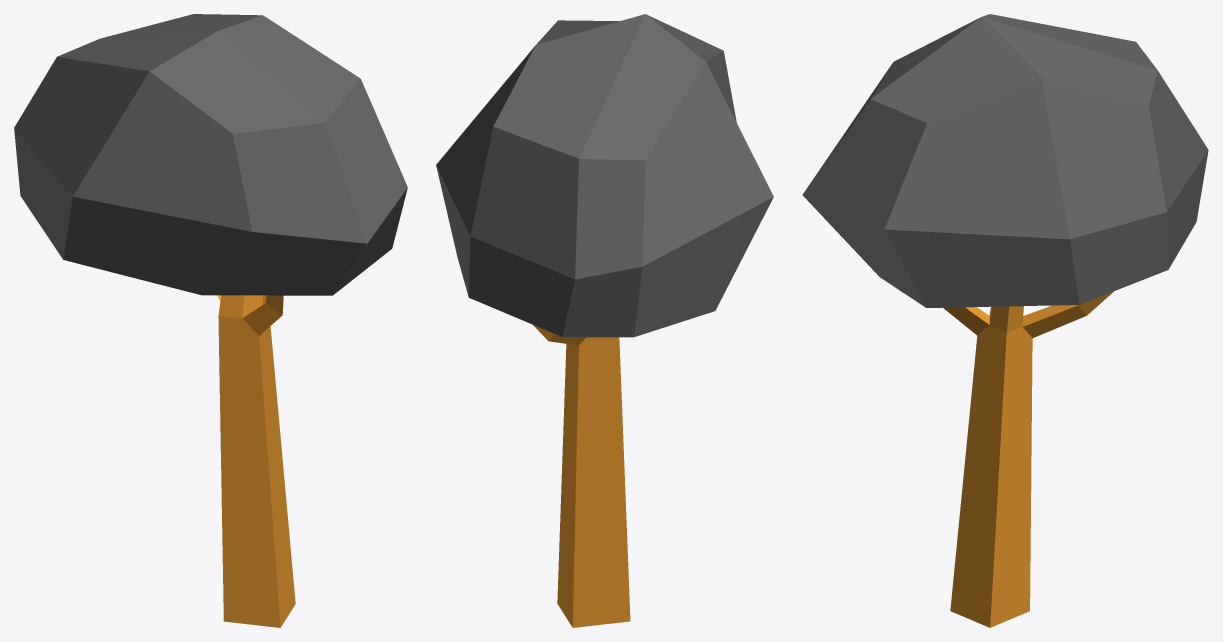
File: oak_0.obj
3 views of the same model, side by side, from view 1: azimuth 30°, elevation 25°; view 2: azimuth 150°, elevation 25°; view 3: azimuth 270°, elevation 25° (orthographic). The views are drawn at different scales.
Parts seen in each view (by area): view 1: oak_0; view 2: oak_0; view 3: oak_0.
Boxes of the visible parts, x1,y1,x2,y2 form: oak_0: (14, 14, 407, 627); oak_0: (436, 14, 773, 627); oak_0: (802, 14, 1208, 627).
Size of the model in its own units: 10.47 by 20.18 by 12.98.
